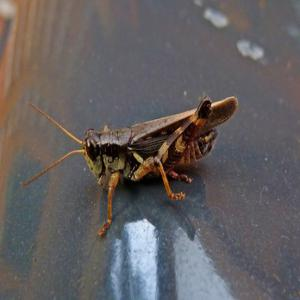locust: (31, 72, 256, 234)
